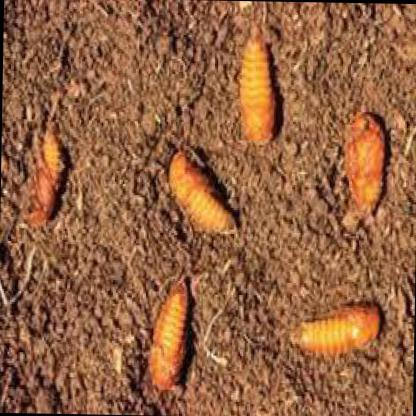root grubs: (165, 147, 238, 238), (147, 279, 188, 391), (242, 32, 273, 148)
